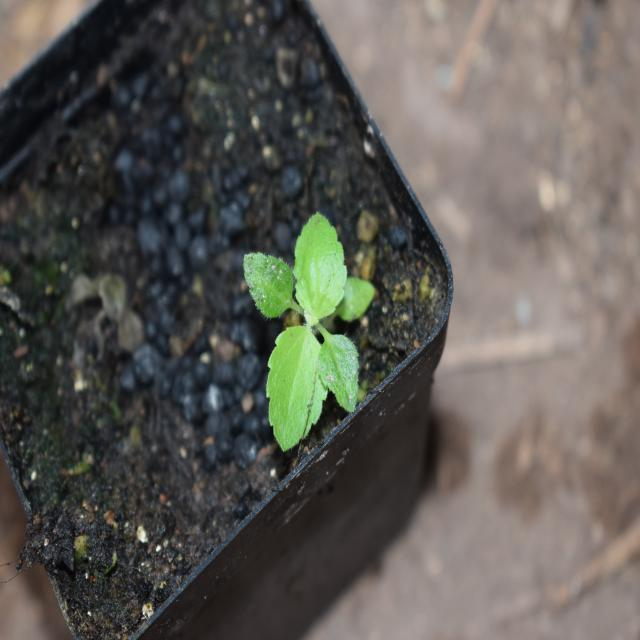billygoat_weed: (242, 208, 376, 450)
